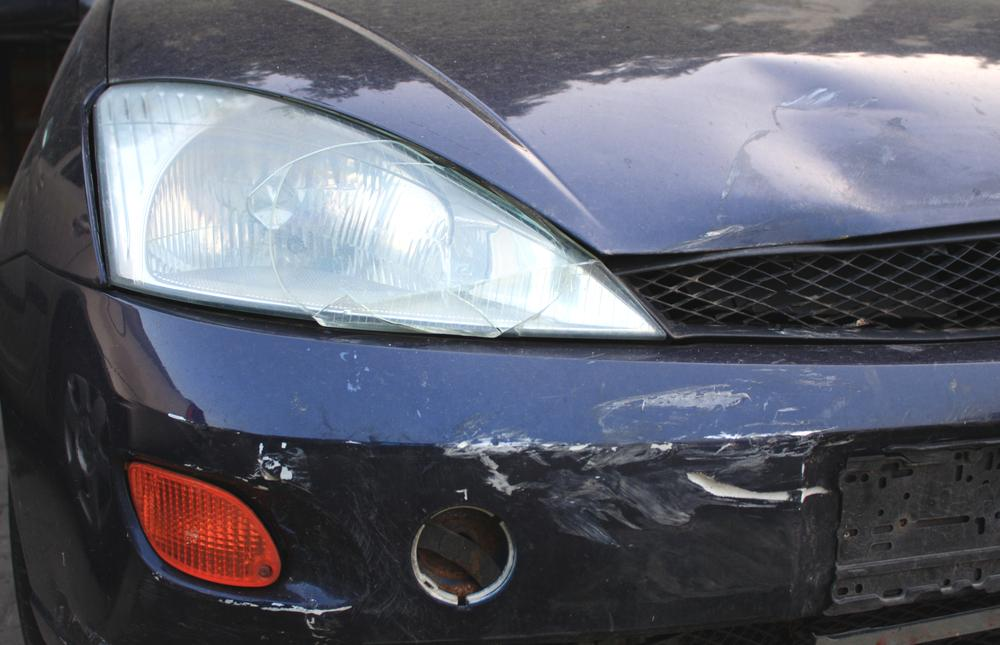dent: (720, 54, 929, 217)
lamp broken: (92, 79, 667, 340)
scratch: (447, 365, 855, 547), (220, 597, 356, 641), (244, 440, 322, 493)
